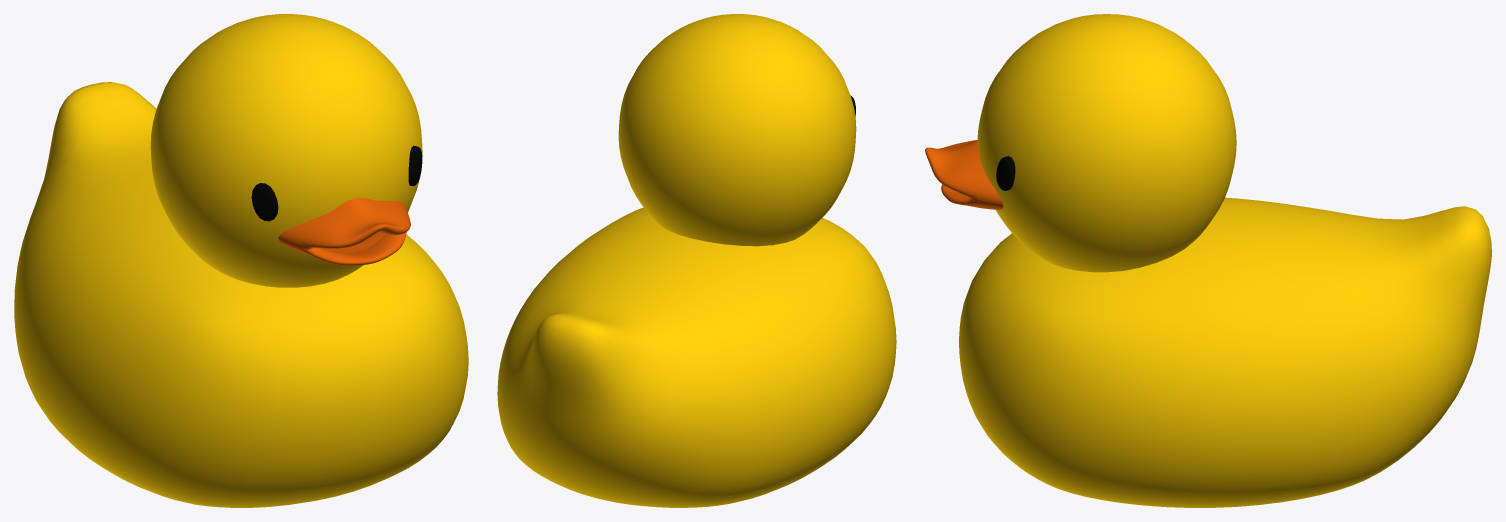
The model's file is RubberDuck.fbx.
3 renders of one model, left to right at view 1: azimuth 30°, elevation 25°; view 2: azimuth 150°, elevation 25°; view 3: azimuth 270°, elevation 25°, orthographic. The views are drawn at different scales.
Visible parts, largest first — view 1: Body; view 2: Body; view 3: Body.
Boxes of the visible parts, <box> form: Body: <box>14,14,468,507</box>; Body: <box>497,14,896,507</box>; Body: <box>925,14,1491,507</box>.
Bounding box in the file's own units: 248 × 308 × 355.
